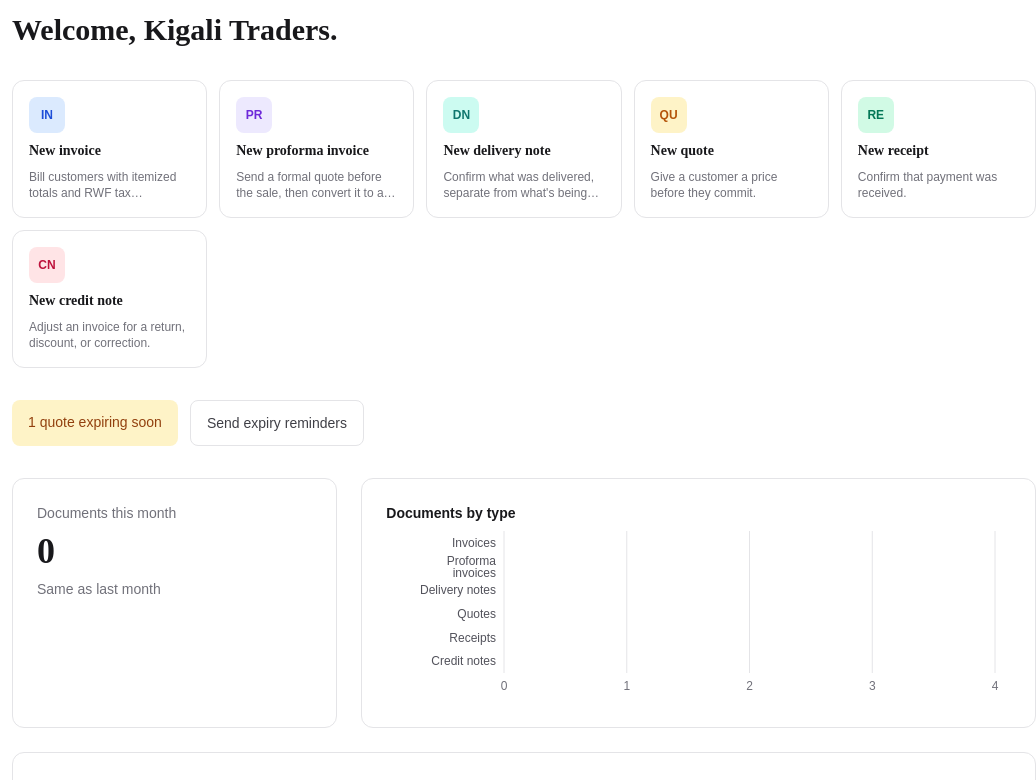
Scenario: Dashboard › sends expiry reminders and shows a confirmation when clicked
The image size is (1036, 780).
Click the button "Send expiry reminders" at (277, 423), box [190,400,364,446]
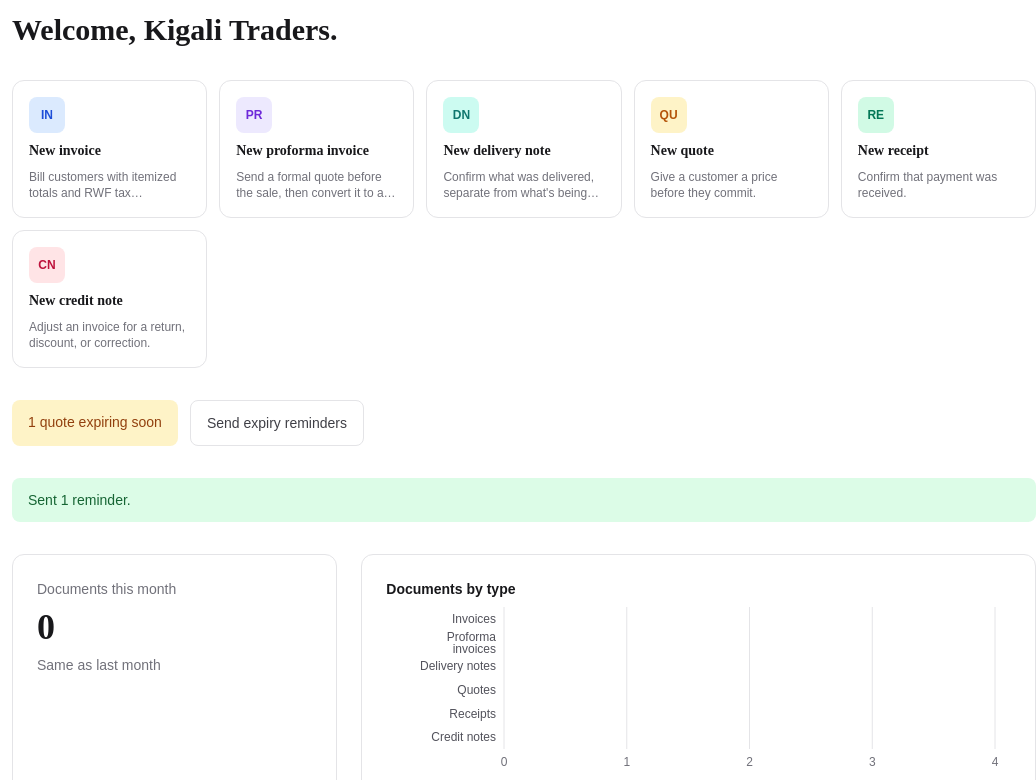
Expected: the text "Sent 1 reminder." is shown, [12,478,1035,522]
